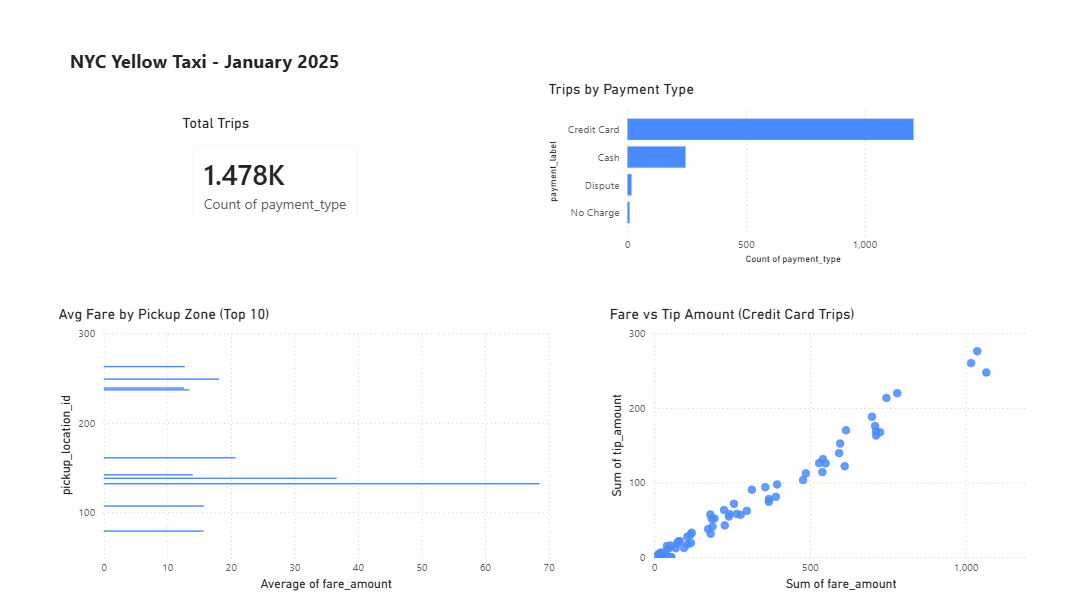

Layout of this report page (visuals, bound fields, positions):
{"tool":"powerbi","page":{"name":"Page 1","canvas":[1280,720],"ordinal":0},"visuals":[{"type":"clusteredBarChart","title":"Trips by Payment Type","fields":{"Y":["CountNonNull(clean_trips.payment_type)"],"Category":["clean_trips.payment_label"]},"box":[640.1,98.7,502.2,219.2],"z":0},{"type":"clusteredBarChart","title":"Avg Fare by Pickup Zone (Top 10)","fields":{"Category":["clean_trips.pickup_location_id"],"Y":["Avg(clean_trips.fare_amount)"]},"box":[71.1,360,586.4,336.8],"z":1},{"type":"cardVisual","title":"Total Trips","fields":{"Data":["CountNonNull(clean_trips.payment_type)"]},"box":[214.8,137.9,226.4,142.3],"z":2},{"type":"scatterChart","title":"Fare vs Tip Amount (Credit Card Trips)","fields":{"X":["Sum(clean_trips.fare_amount)"],"Y":["Sum(clean_trips.tip_amount)"],"Category":["clean_trips.pickup_location_id"]},"box":[711.3,360,511,336.8],"z":3},{"type":"textbox","box":[84.2,56.6,467.4,42.1],"z":4}]}

Visuals, with their boxes in screenshot pixels (x1, y1, x2, y2), scaled from the page's 1280x720 canvas onto the 1090x608 screenshot:
"Trips by Payment Type" clusteredBarChart: box(545, 83, 973, 268)
"Avg Fare by Pickup Zone (Top 10)" clusteredBarChart: box(61, 304, 560, 588)
"Total Trips" cardVisual: box(183, 116, 376, 237)
"Fare vs Tip Amount (Credit Card Trips)" scatterChart: box(606, 304, 1041, 588)
textbox: box(72, 48, 470, 83)
